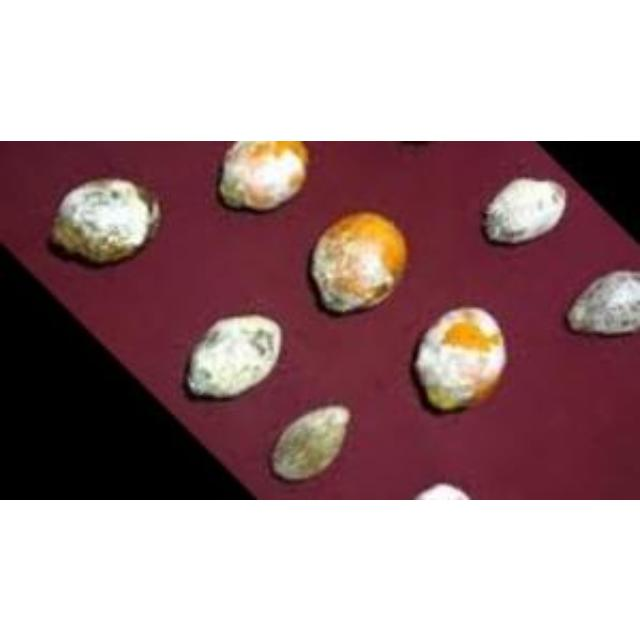damaged: (308, 208, 409, 312), (412, 304, 510, 411), (50, 175, 160, 265), (186, 315, 286, 401), (218, 140, 310, 212), (270, 404, 350, 480), (482, 176, 566, 244), (566, 268, 640, 336)
